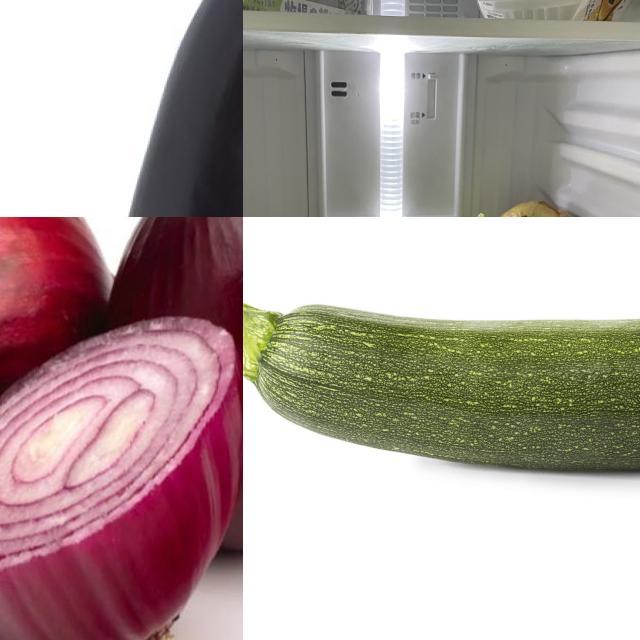eggplant: (123, 1, 244, 218)
onion: (1, 310, 244, 640), (110, 218, 244, 559), (1, 218, 117, 520), (493, 194, 586, 218)
zucchini: (252, 259, 640, 490)
